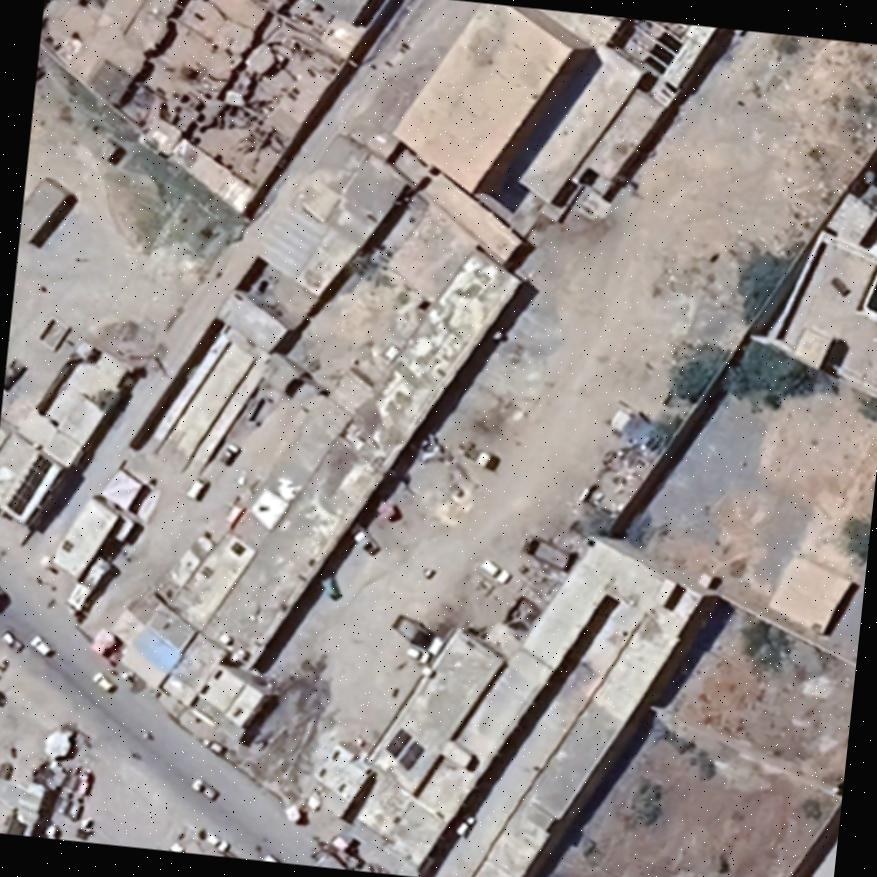Solarpanel: (379, 723, 429, 776)
